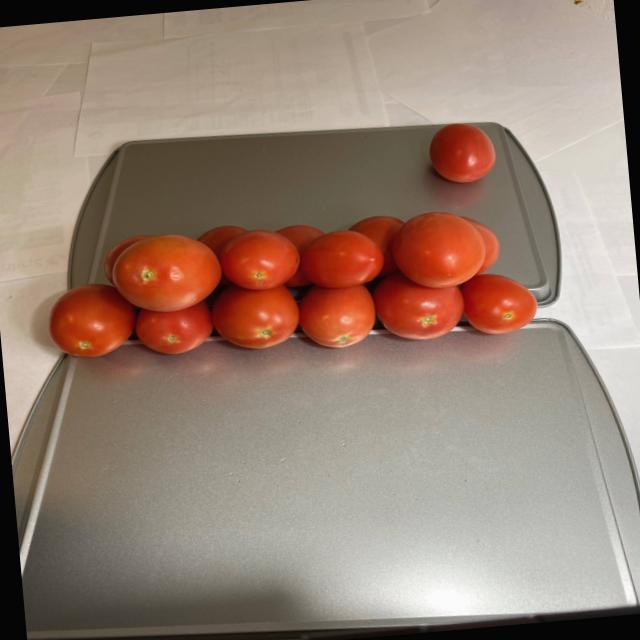tomato: (31, 200, 539, 377), (420, 119, 503, 188)
